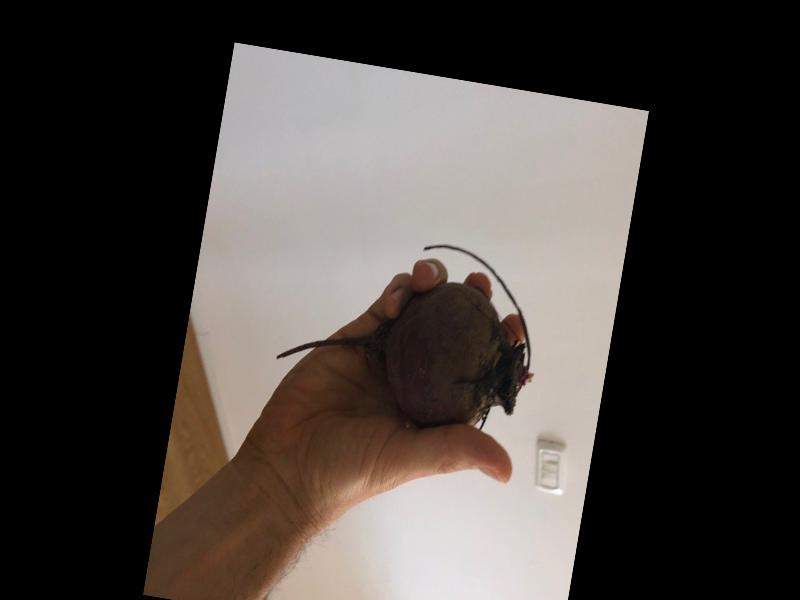Beet: (270, 218, 551, 439)
